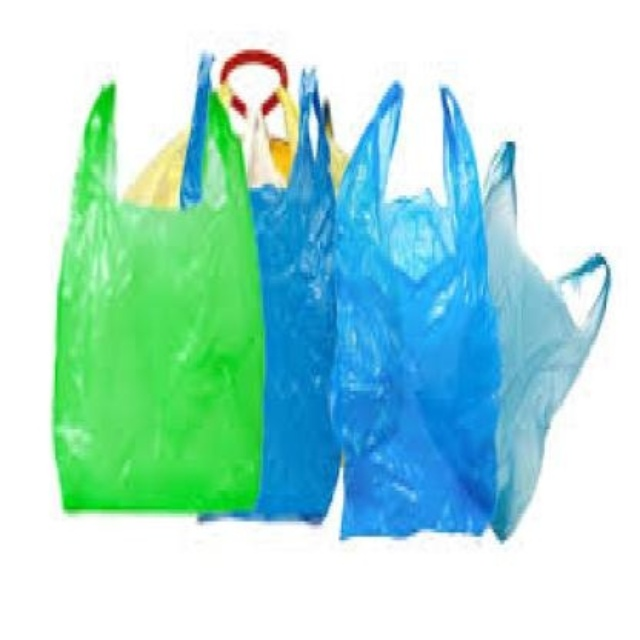trash: (54, 55, 609, 537), (54, 60, 262, 511), (335, 83, 498, 535)
